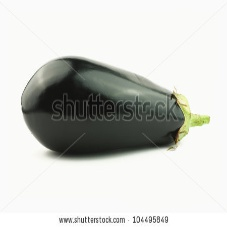eggplant: (20, 54, 186, 156)
